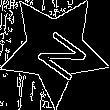N_NW: (24, 18, 86, 81)
